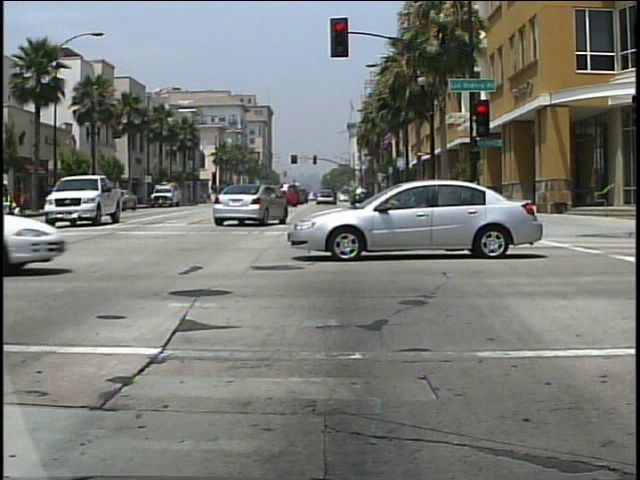person: (3, 178, 24, 231)
